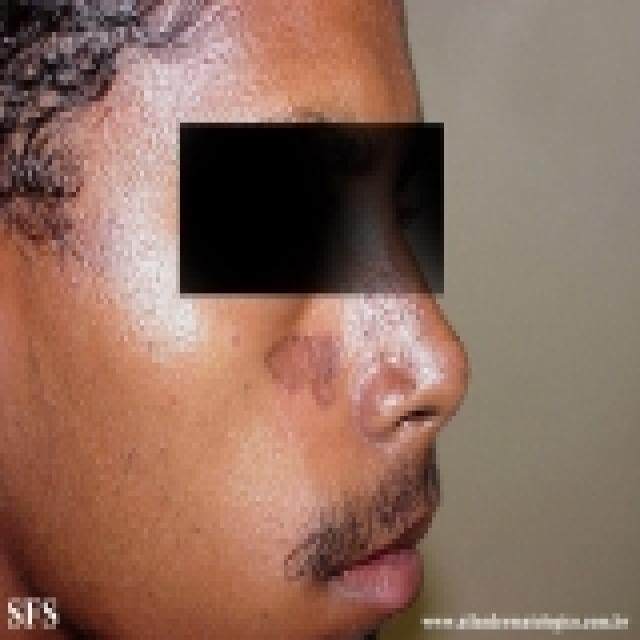lupus: (252, 308, 421, 448)
